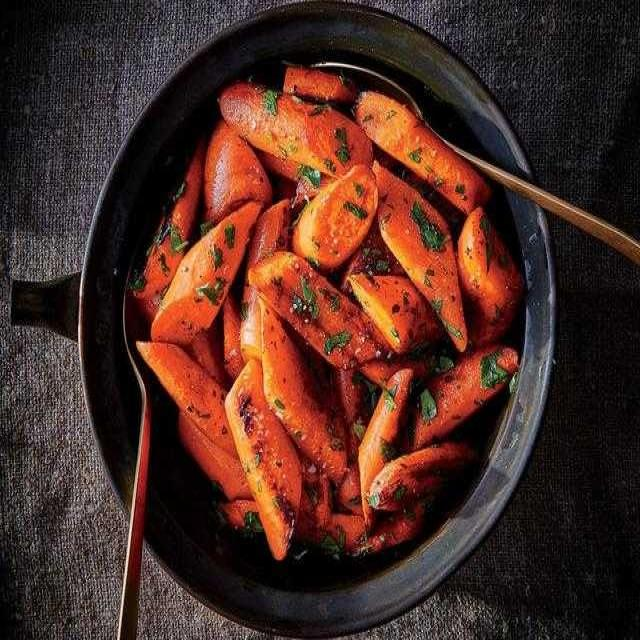carrots: (139, 185, 266, 365), (348, 94, 516, 214), (218, 376, 322, 553), (291, 157, 423, 275)
